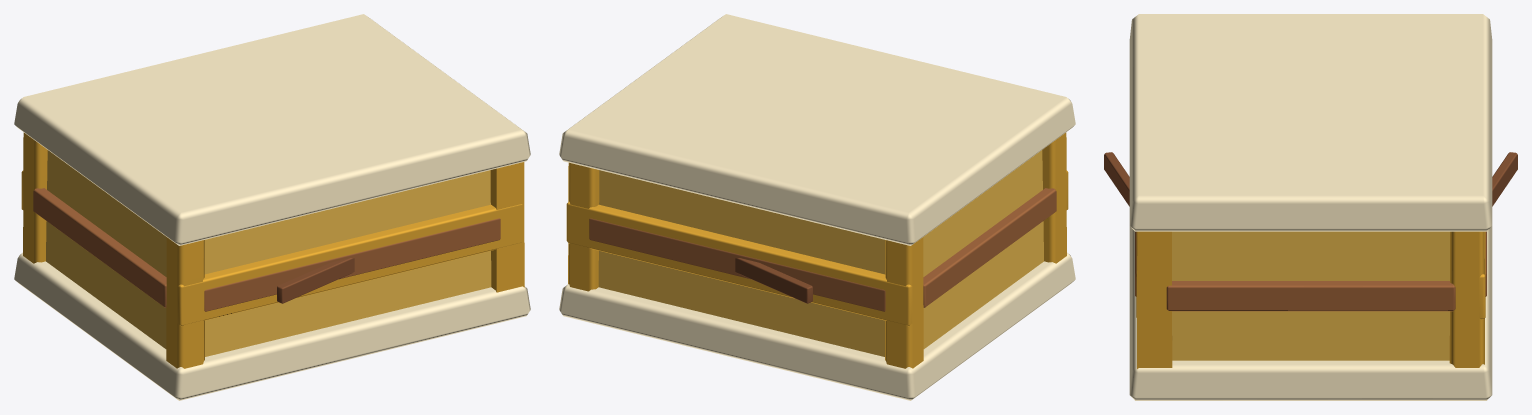
Rendered from b_window_box.glb.
3 views of the same model, side by side, from view 1: azimuth 30°, elevation 25°; view 2: azimuth 150°, elevation 25°; view 3: azimuth 270°, elevation 25° (orthographic). The views are drawn at different scales.
Visible parts, largest first — view 1: b_window_box; view 2: b_window_box; view 3: b_window_box.
Boxes of the visible parts, left/top/right/bottom form: b_window_box: left=14, top=14, right=530, bottom=400; b_window_box: left=559, top=14, right=1075, bottom=400; b_window_box: left=1104, top=14, right=1517, bottom=400.
Bounding box in the file's own units: 1.71 × 0.855 × 1.57.
